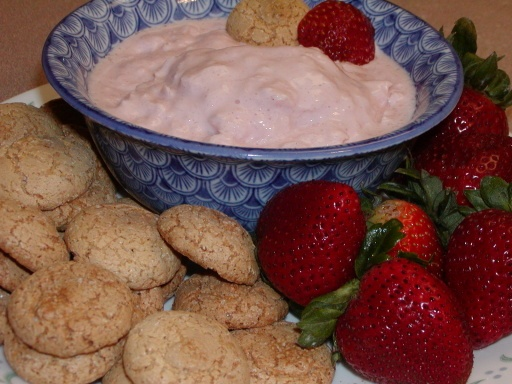background: (0, 10, 410, 230), (69, 0, 333, 89)
